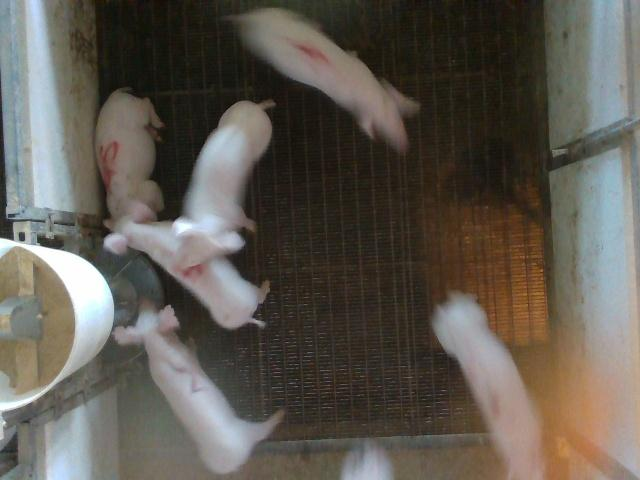pig-1: (230, 9, 419, 152)
pig-2: (115, 301, 285, 473)
pig-3: (434, 292, 545, 478)
pig-4: (104, 221, 268, 328)
pig-5: (95, 88, 164, 228)
